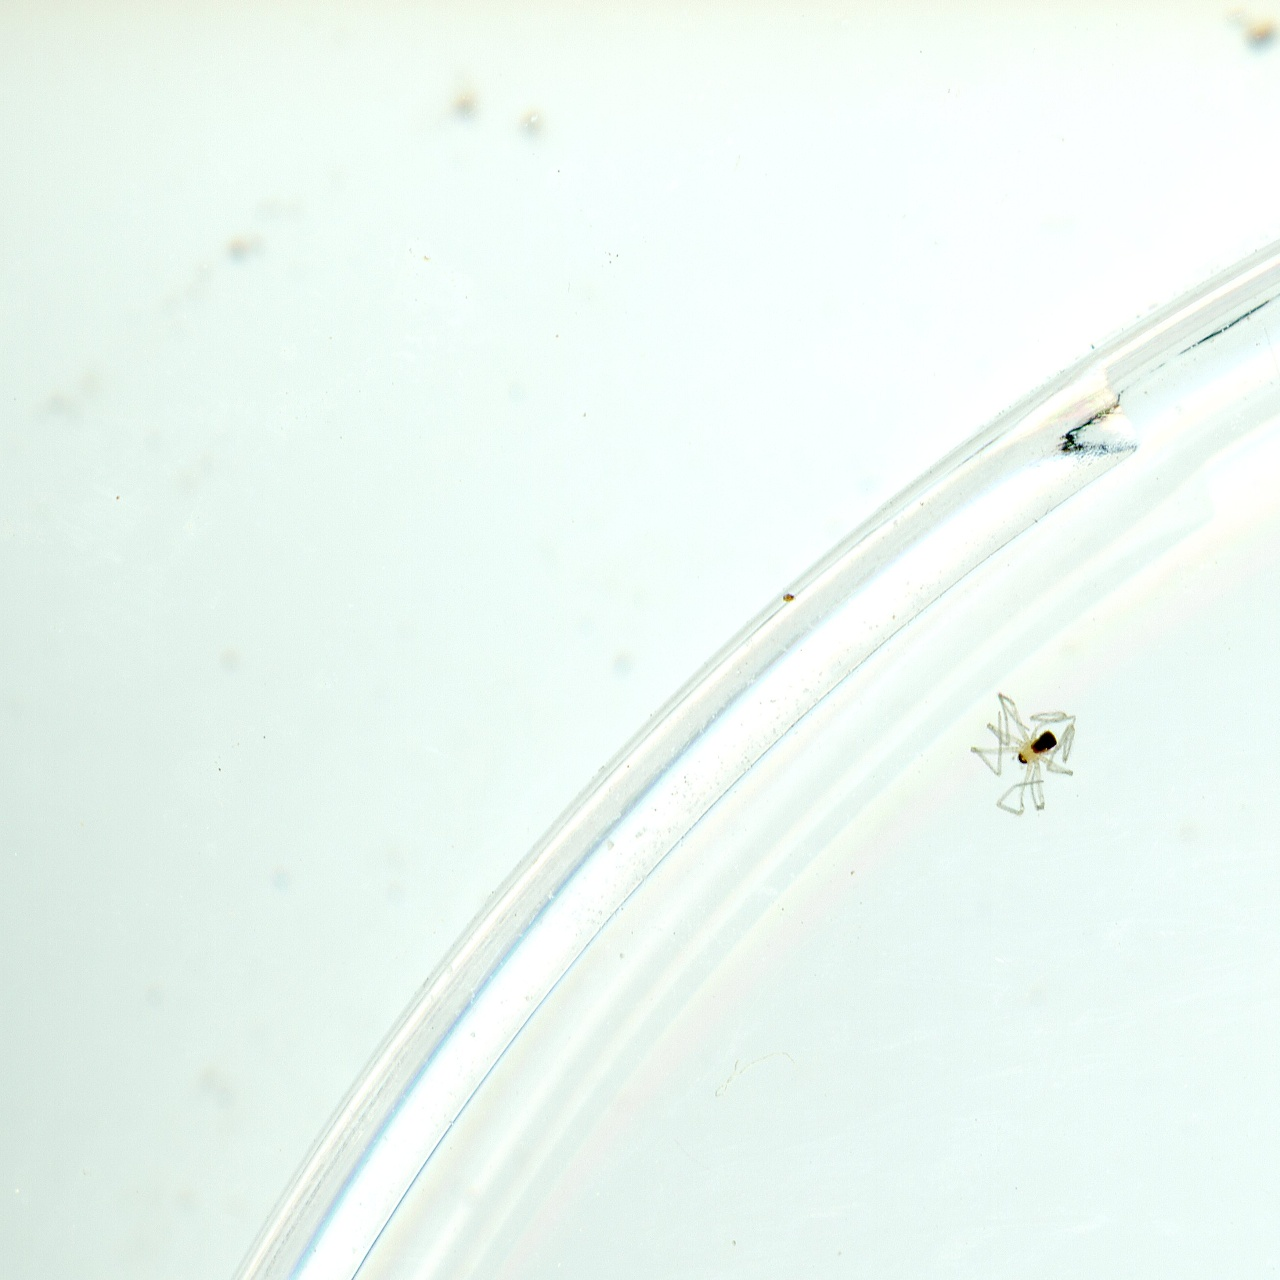arthropod: (956, 683, 1086, 818)
